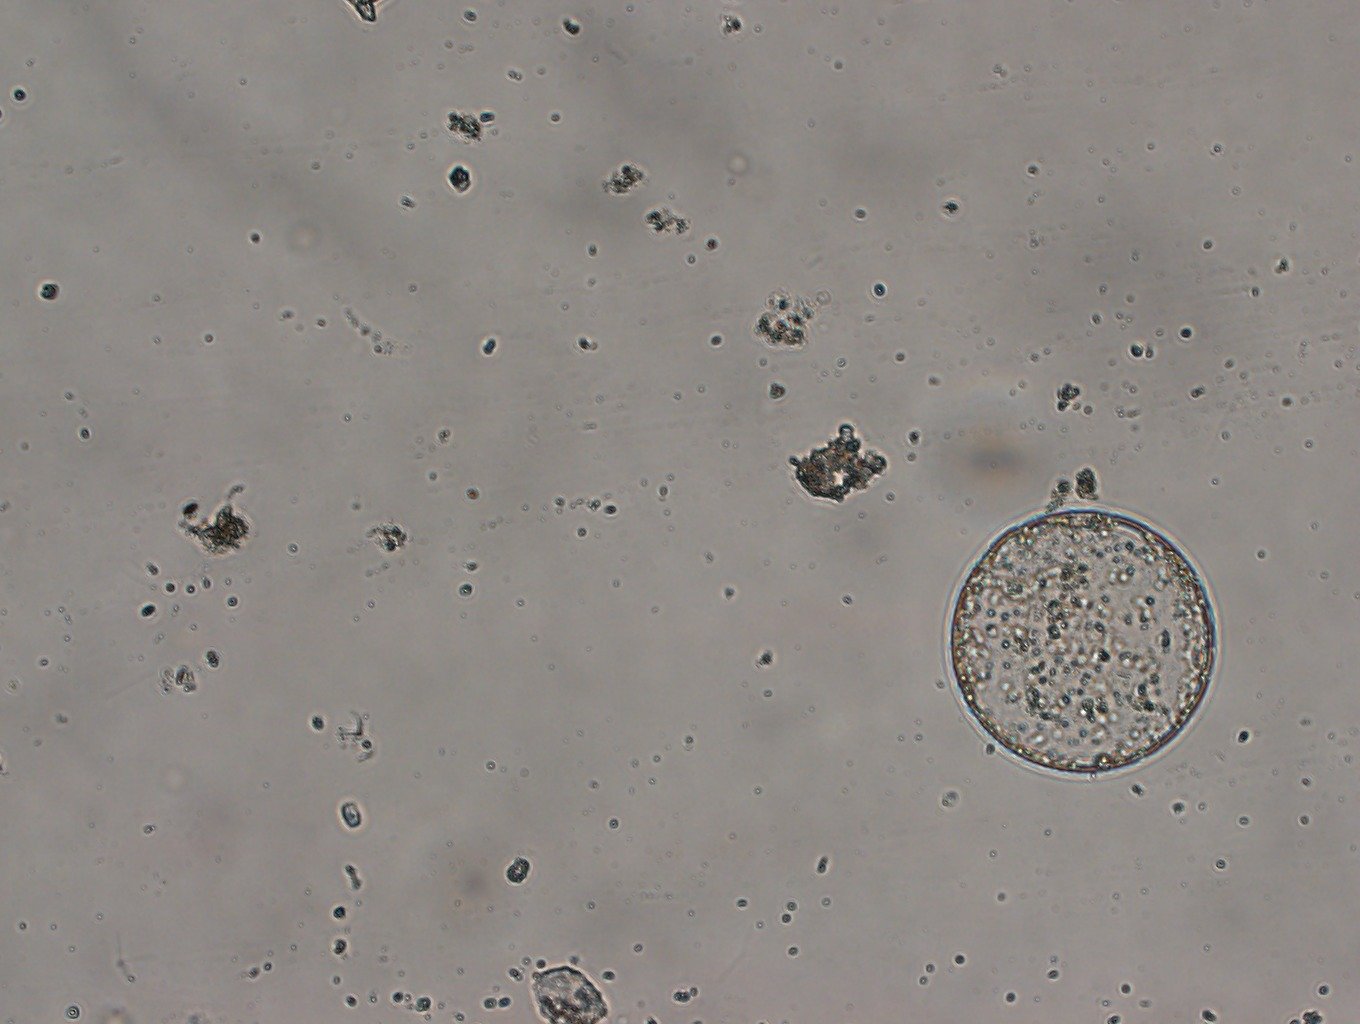coscinodiscus: (947, 507, 1221, 778)
